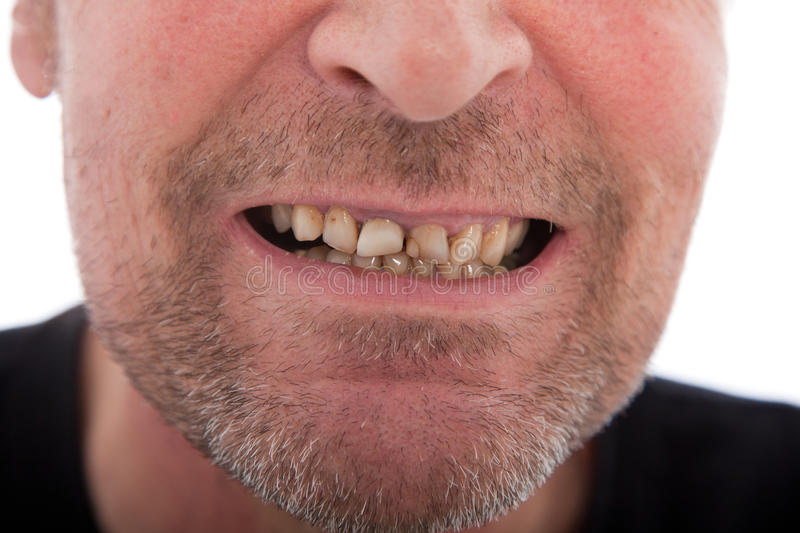normal: (355, 214, 401, 259), (503, 220, 519, 255), (270, 205, 289, 234), (352, 254, 382, 269), (324, 249, 350, 264), (460, 262, 483, 277), (309, 247, 321, 260)
rough: (401, 224, 449, 258)
yellow: (322, 205, 355, 252), (449, 224, 481, 260), (290, 205, 322, 240), (483, 221, 506, 264), (435, 260, 460, 280), (387, 256, 408, 277), (413, 260, 431, 273)
